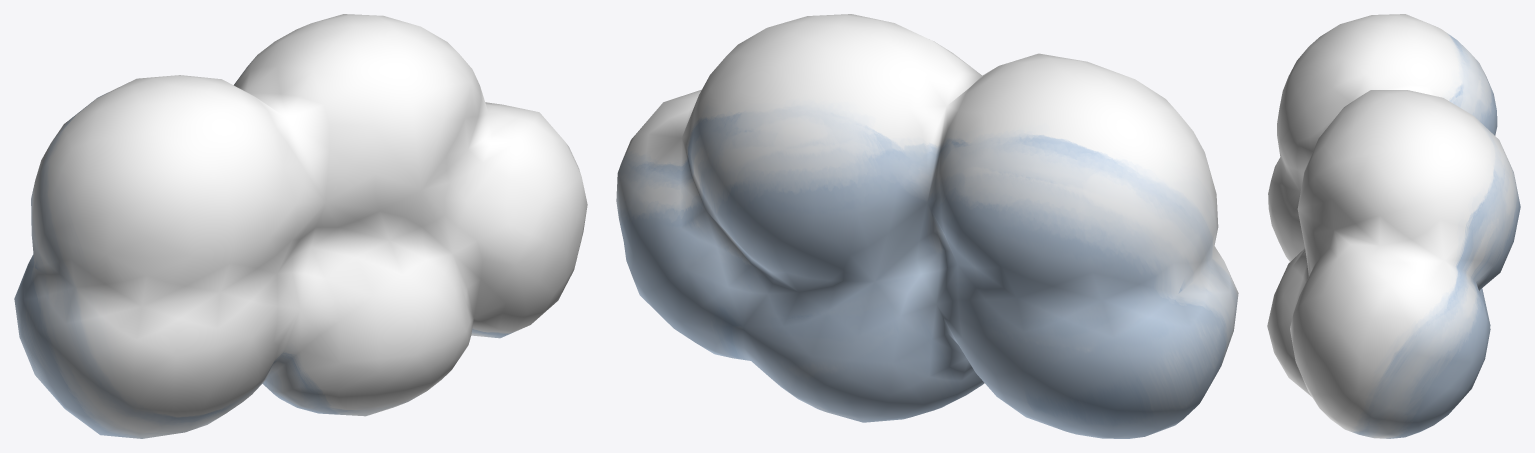
The model's file is Cloud.fbx.
3 views of the same model, side by side, from view 1: azimuth 30°, elevation 25°; view 2: azimuth 150°, elevation 25°; view 3: azimuth 270°, elevation 25° (orthographic). The views are drawn at different scales.
Parts seen in each view (by area): view 1: Icosphere; view 2: Icosphere; view 3: Icosphere.
Boxes of the visible parts, x1,y1,x2,y2 form: Icosphere: [14, 14, 587, 438]; Icosphere: [616, 14, 1238, 438]; Icosphere: [1267, 14, 1520, 438].
Size of the model in its own units: 458 by 294 by 216.
